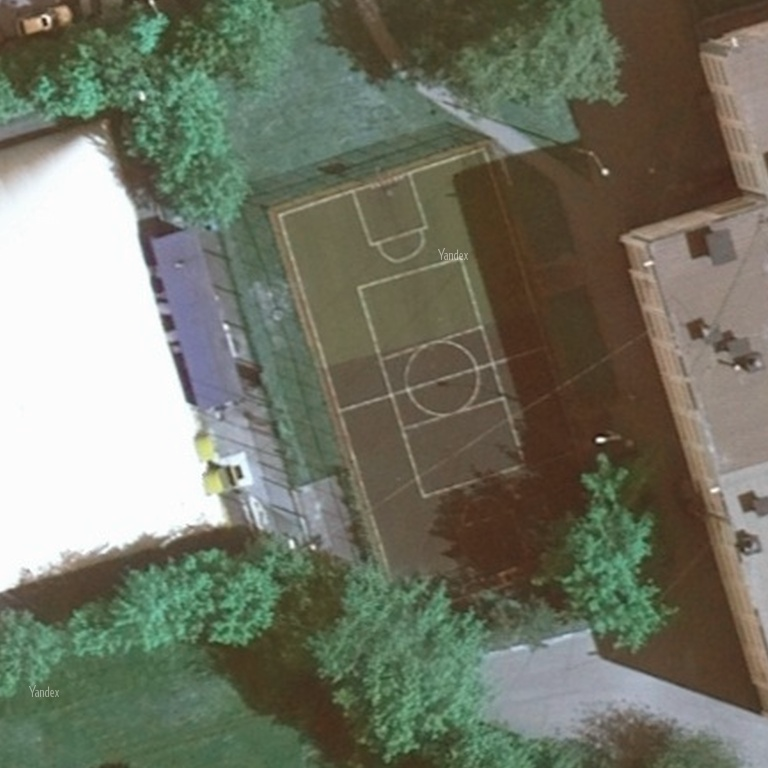basket_court: (249, 130, 644, 628)
